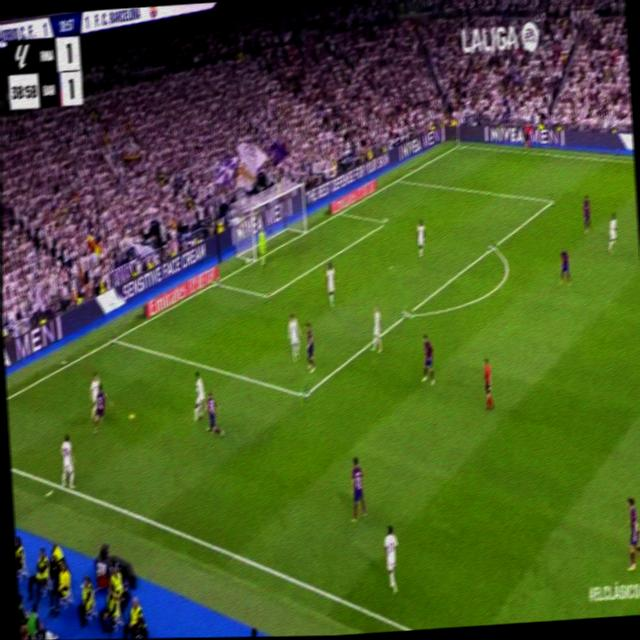bigarea_bottom_inner: (299, 384, 310, 406)
bigarea_top_inner: (547, 194, 554, 208)
bigarea_top_outter: (109, 330, 119, 347)
bottom_arc_area_intersection: (402, 304, 413, 322)
smallarea_bottom_inner: (263, 286, 273, 305)
smallarea_bottom_outter: (212, 276, 220, 288)
smallarea_top_inner: (383, 216, 388, 226)
top_arc_area_intersection: (488, 239, 497, 254)
